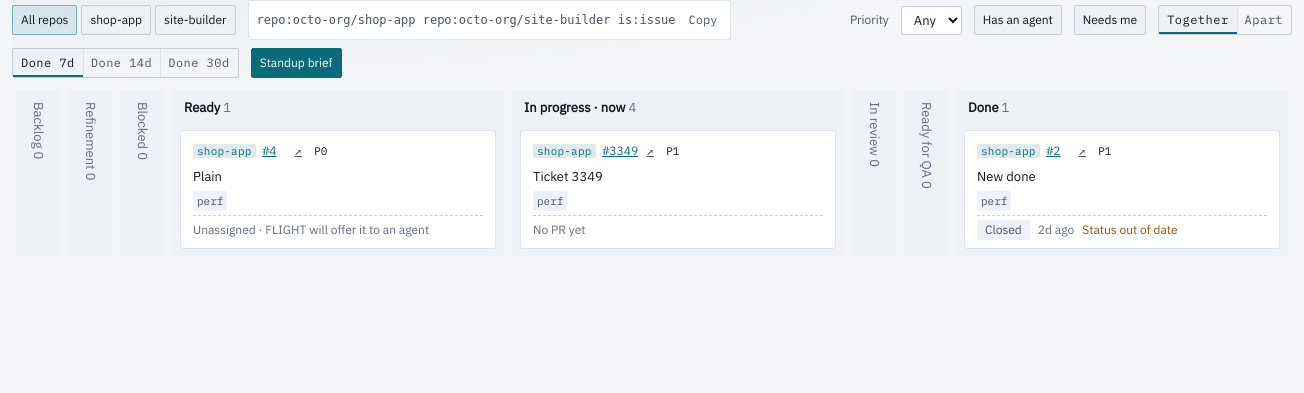
Test: filters › Done 14d shows a 10-day-old item that 7d hides
Expected: the element showing "Backlog 0" is shown, [16,90,60,257]
Expected: the link "New done" is shown, [977,168,1036,185]
What coordinates should you click on to do the following:
click the button "Done 14d"
I would click on:
 (122, 63)
Its box is [83,49,160,77].
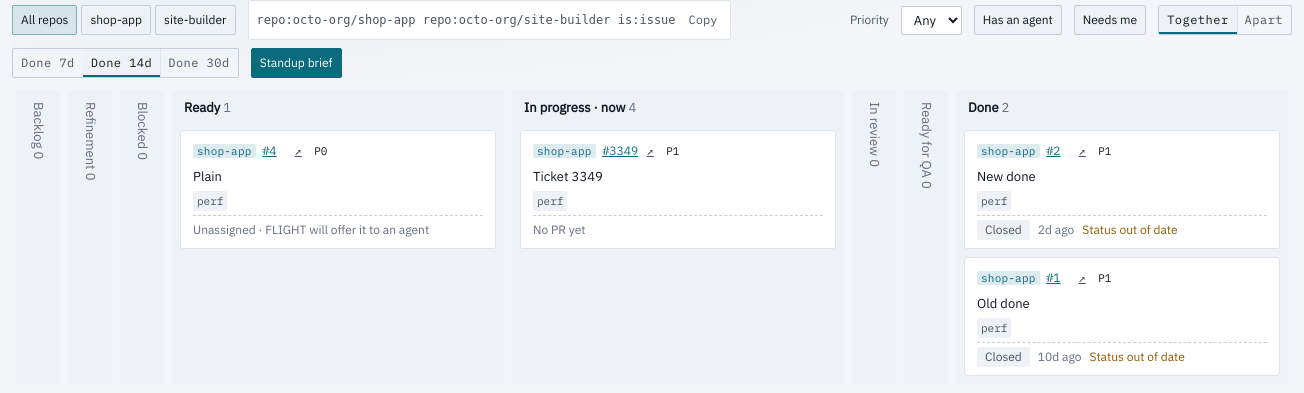
Result: the link "Old done" is shown at [977,295,1030,312]
What coordinates should you click on to do the following:
click the button "Done 7d"
I would click on:
 (48, 63)
Its box is [13,49,83,77].
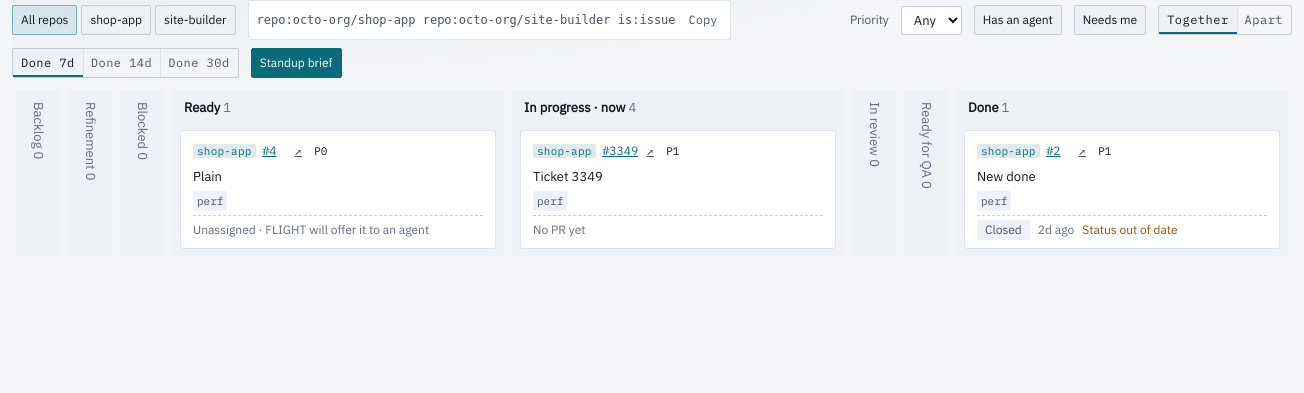
Result: the link "Old done" is gone
